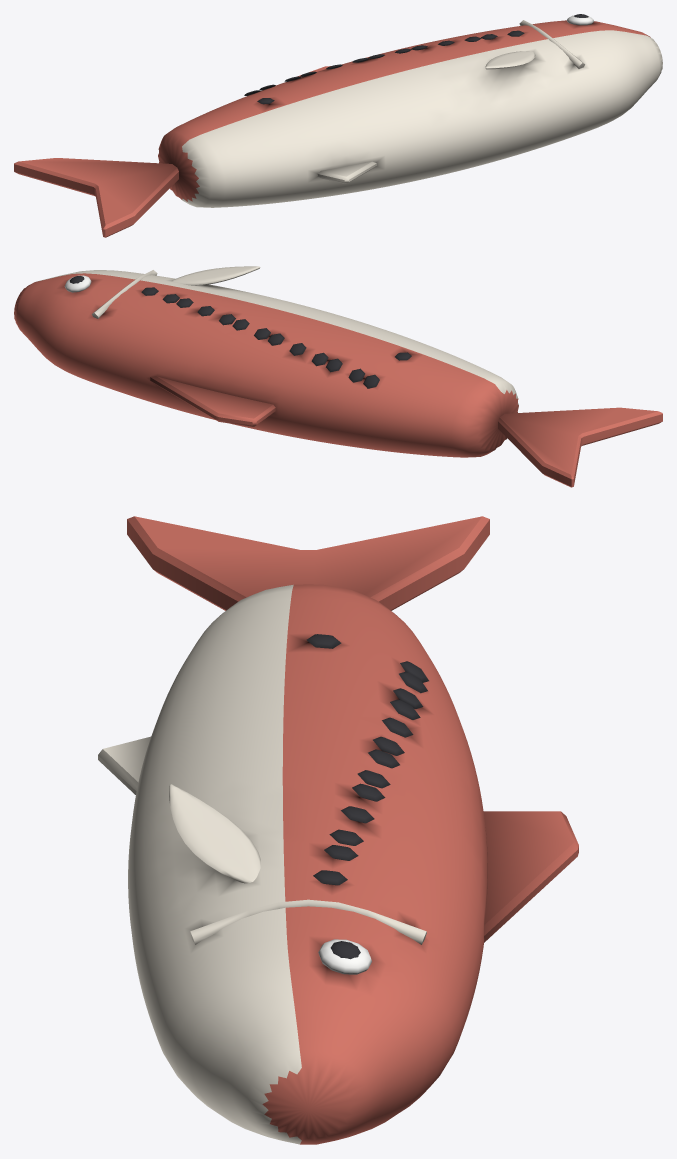
Rendered from food_trout.glb.
3 renders of one model, top to bottom at view 1: azimuth 30°, elevation 25°; view 2: azimuth 150°, elevation 25°; view 3: azimuth 270°, elevation 25°, orthographic. The views are drawn at different scales.
Visible parts, largest first — view 1: PART; view 2: PART; view 3: PART.
Boxes of the visible parts, box(x1,y1,x2,y2) form: PART: box(14, 14, 662, 237); PART: box(14, 266, 662, 487); PART: box(98, 516, 578, 1144).
Size of the model in its own units: 0.2489 by 0.0456 by 0.0867.
